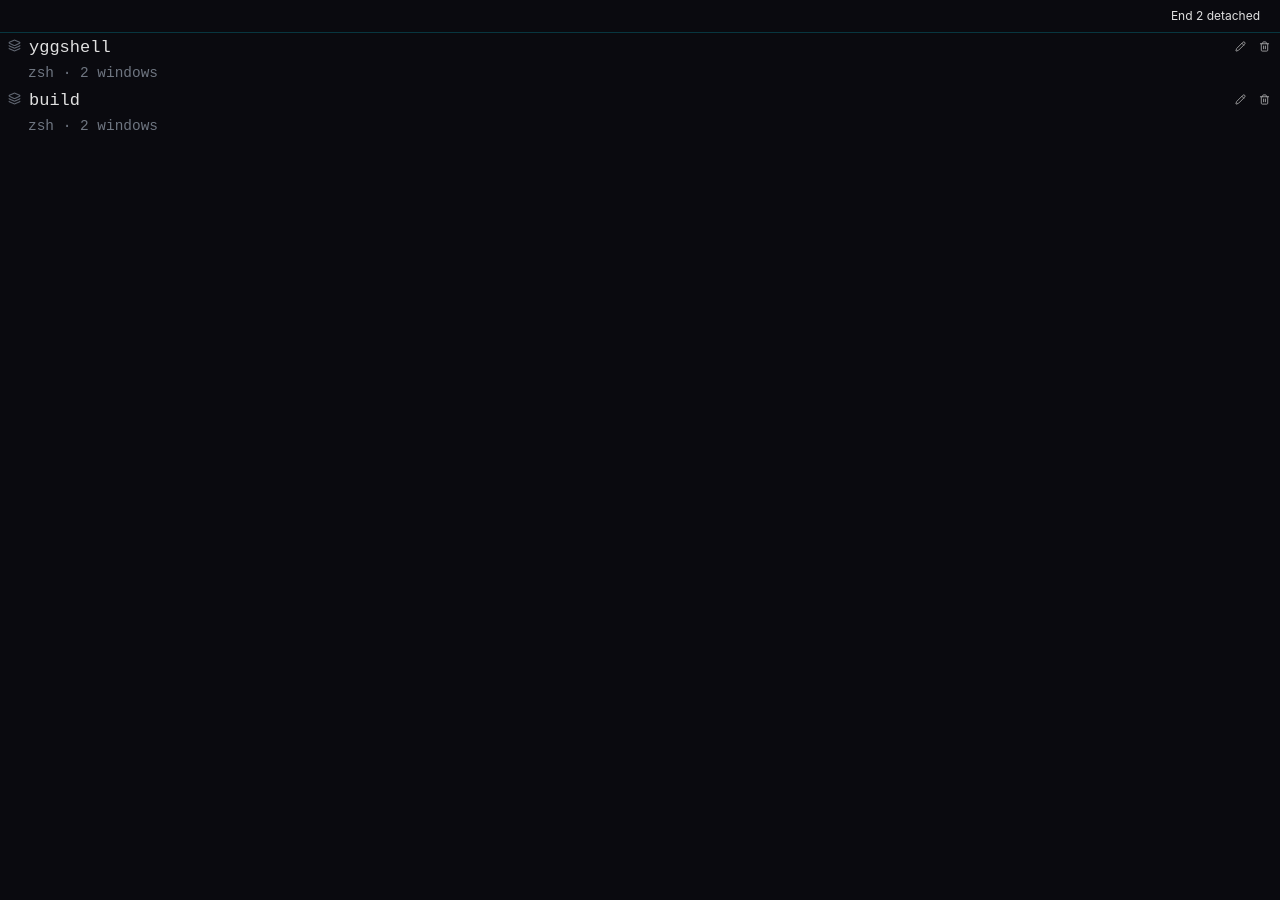
Scenario: TmuxTool › surfaces a refusal instead of swallowing it
What coordinates should you click on to do the following:
click the button named "End build"
I would click on:
 (1264, 100)
Its box is [1256,92,1272,108].
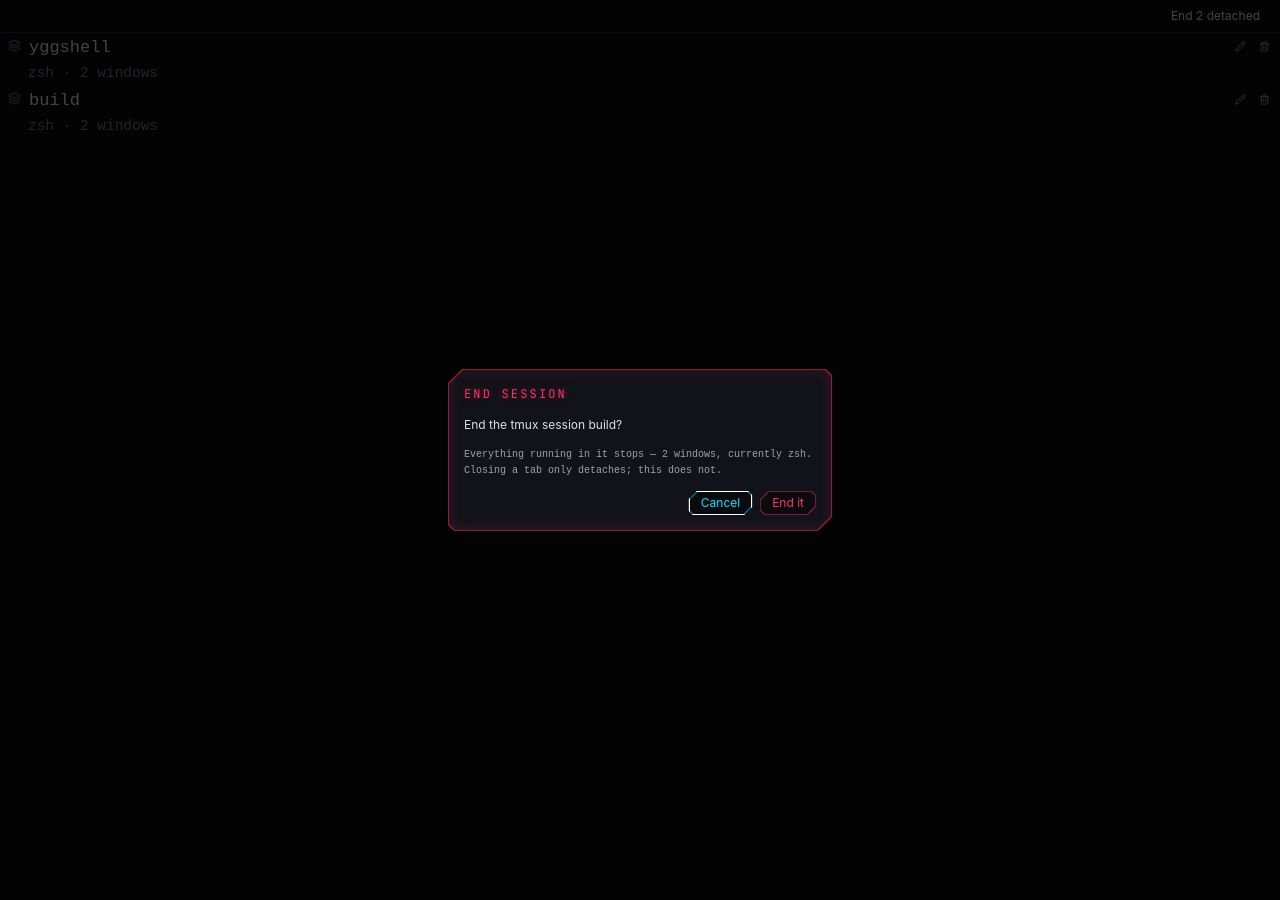
What coordinates should you click on to do the following:
click the button "End it"
I would click on:
 (788, 503)
Its box is [760,491,816,515].
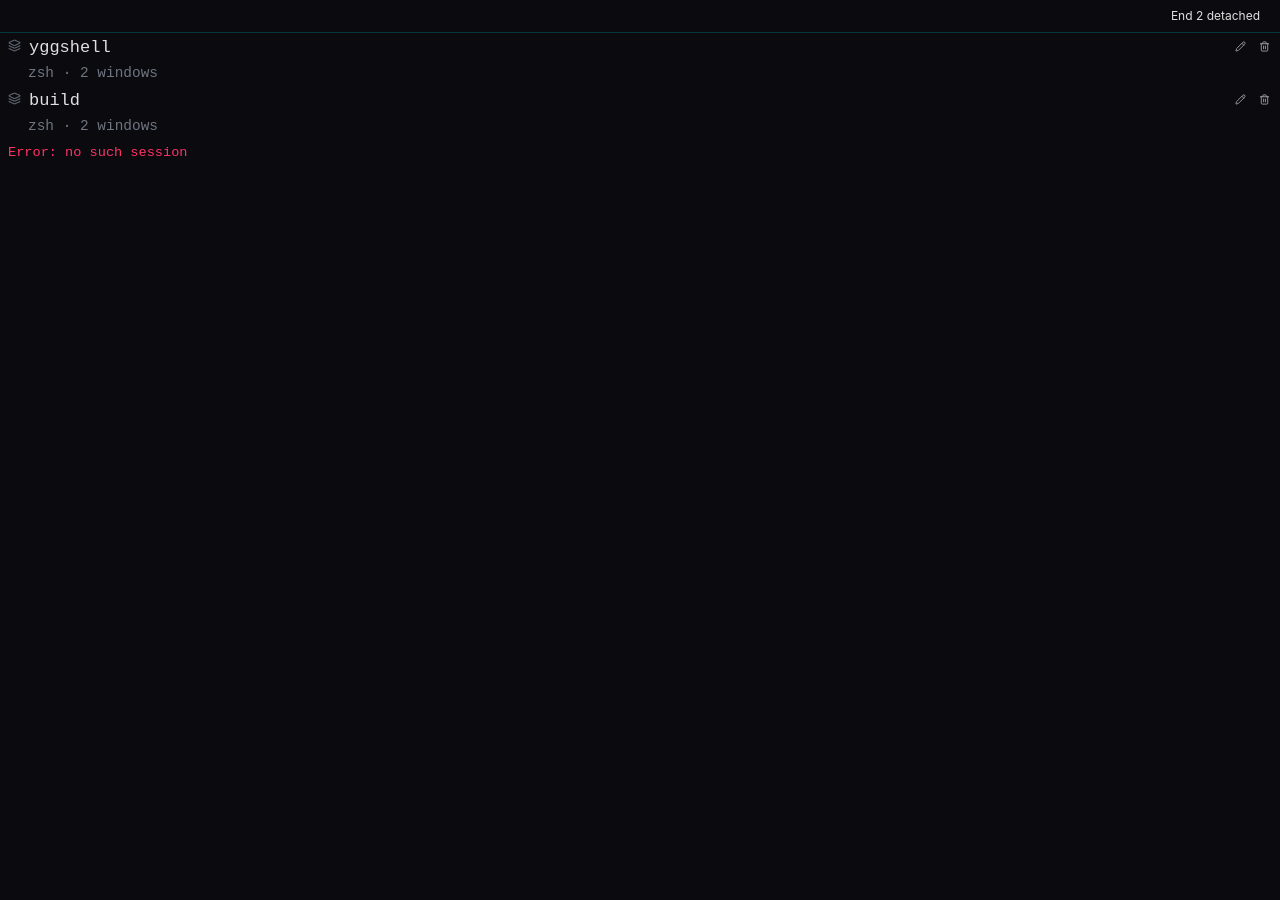
Now the text "Error: no such session" is shown, box [8,145,188,160]
